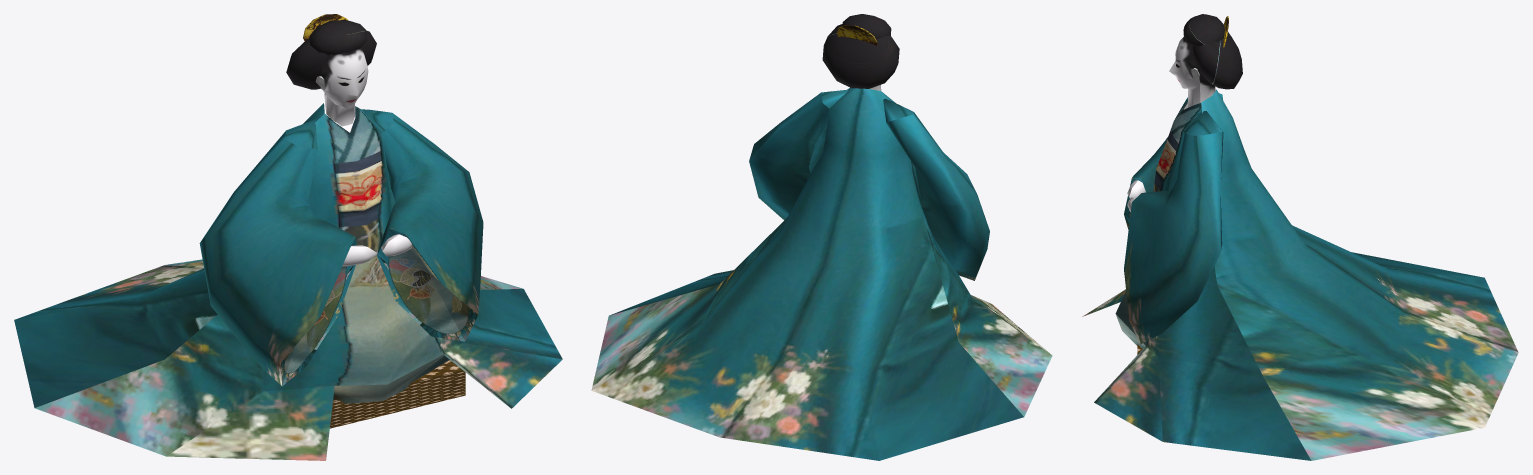
Rendered from GeishaSculpture1.d.fbx.
3 renders of one model, left to right at view 1: azimuth 30°, elevation 25°; view 2: azimuth 150°, elevation 25°; view 3: azimuth 270°, elevation 25°, orthographic. The views are drawn at different scales.
Parts seen in each view (by area): view 1: Group 0; view 2: Group 0; view 3: Group 0.
Boxes of the visible parts, bbox=[...] form: Group 0: bbox=[14, 14, 562, 460]; Group 0: bbox=[591, 14, 1052, 460]; Group 0: bbox=[1082, 14, 1518, 460].
Bounding box in the file's own units: 66.12 × 47.57 × 56.44.
Materials: 1 (1 with a texture image).
